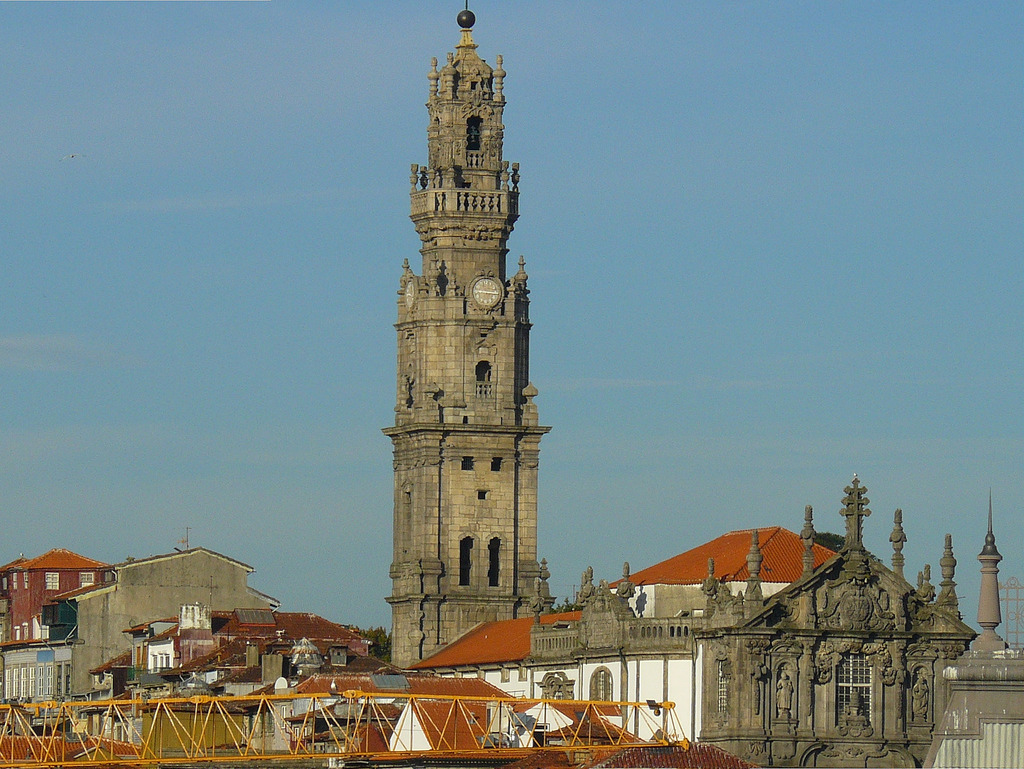clerigos: (375, 0, 555, 672)
